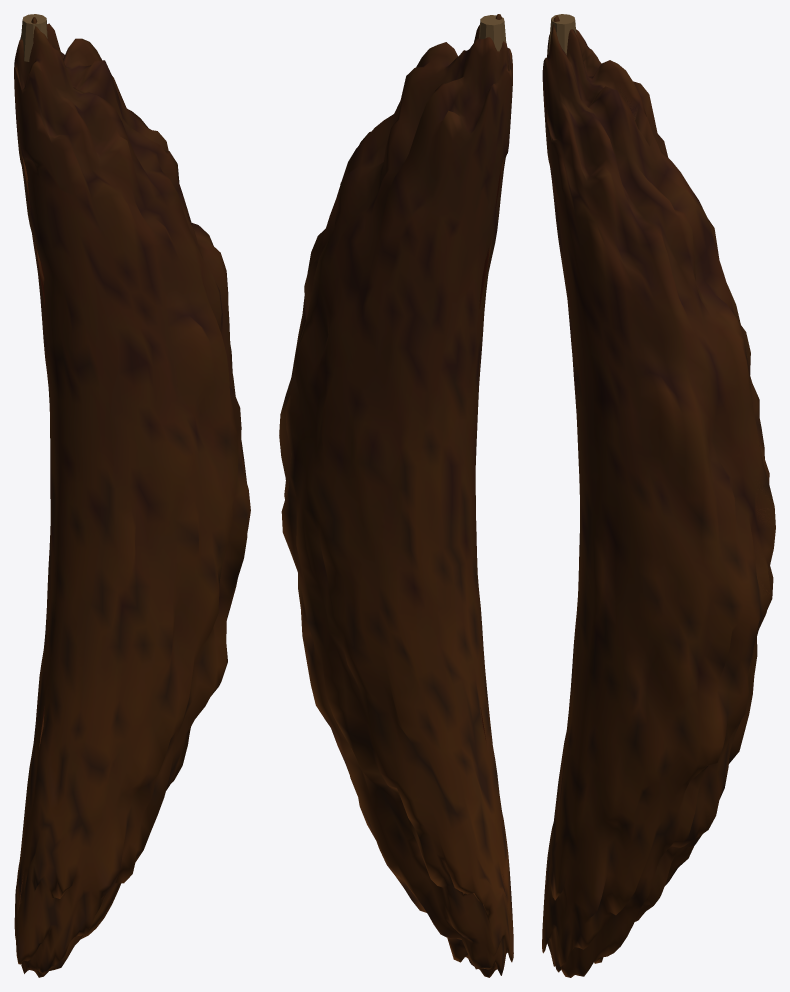
Rendered from tamarin.glb.
The picture shows the model from 3 angles, left to right: view 1: azimuth 30°, elevation 25°; view 2: azimuth 150°, elevation 25°; view 3: azimuth 330°, elevation 25°; orthographic projection.
Visible parts, largest first — view 1: entier_peau, moitie_B_peau, moitie_A_peau, entier_extra0; view 2: entier_peau, moitie_A_peau, moitie_B_peau, entier_extra0; view 3: entier_peau, moitie_B_peau, moitie_A_peau, entier_extra0.
Part boxes in pixels (bbox=[...]): entier_peau: bbox=[14, 17, 250, 977]; moitie_B_peau: bbox=[16, 20, 248, 976]; moitie_A_peau: bbox=[14, 39, 145, 972]; entier_extra0: bbox=[21, 14, 47, 61]; entier_peau: bbox=[279, 14, 513, 977]; moitie_A_peau: bbox=[280, 36, 510, 974]; moitie_B_peau: bbox=[469, 14, 513, 976]; entier_extra0: bbox=[479, 15, 506, 51]; entier_peau: bbox=[542, 15, 775, 977]; moitie_B_peau: bbox=[542, 18, 769, 976]; moitie_A_peau: bbox=[578, 33, 775, 962]; entier_extra0: bbox=[548, 14, 576, 54].
Bounding box in the file's own units: 0.5111 × 2.07 × 0.2696.
